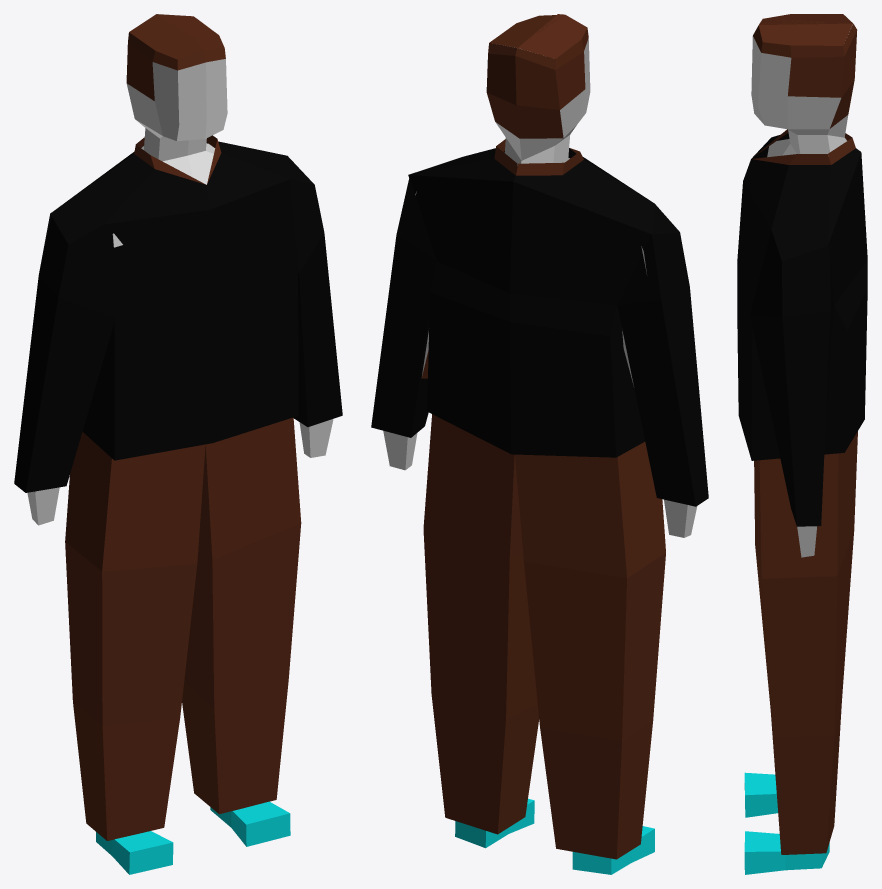
The model's file is manbuld.fbx.
3 renders of one model, left to right at view 1: azimuth 30°, elevation 25°; view 2: azimuth 150°, elevation 25°; view 3: azimuth 270°, elevation 25°, orthographic. The views are drawn at different scales.
Visible parts, largest first — view 1: Cube; view 2: Cube; view 3: Cube.
Part boxes in pixels (x1,y1,x2,y2): Cube: (14, 14, 342, 874); Cube: (371, 14, 708, 874); Cube: (737, 14, 867, 874).
Size of the model in its own units: 263 by 640 by 92.74.
